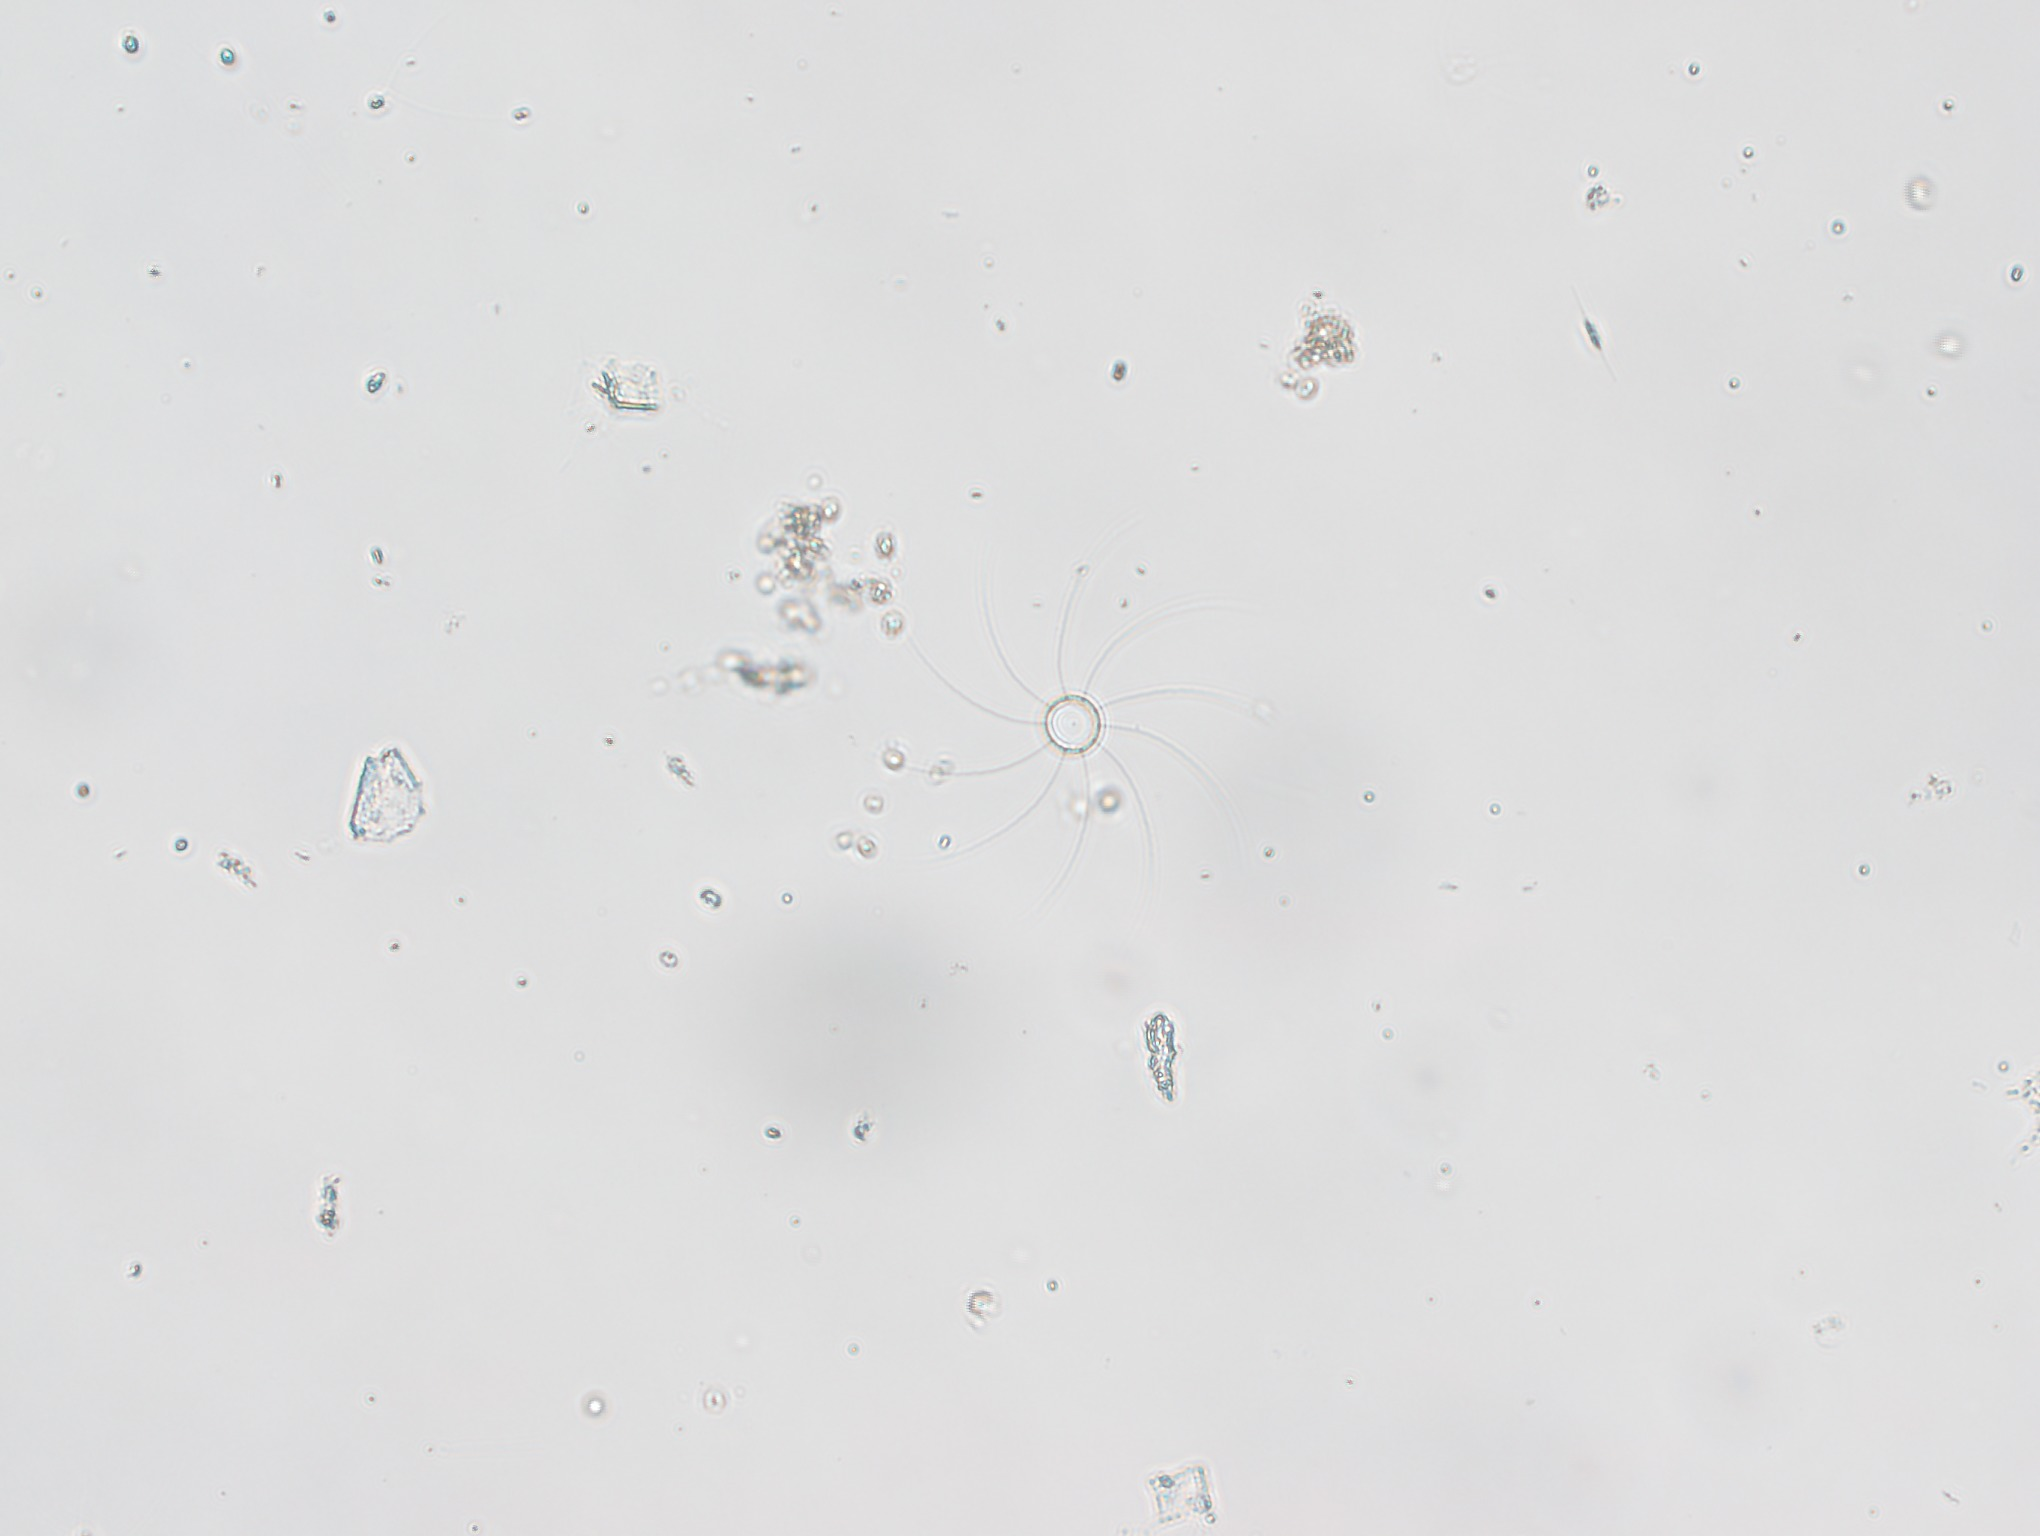bacteriastrum: (913, 560, 1271, 891)
